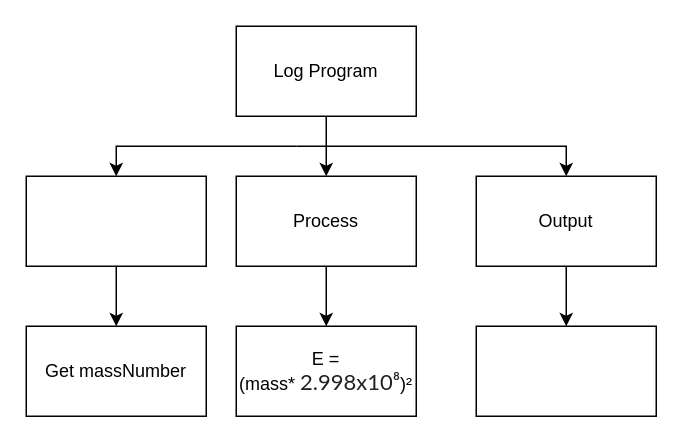
This 683x443 diagram has some shape labels left out. The shapes that lost their labels are listed below. From the top down, each one's centre as x and y in pixels, then its label:
the point at 115,220: Input
the point at 565,370: console.log("amount")
